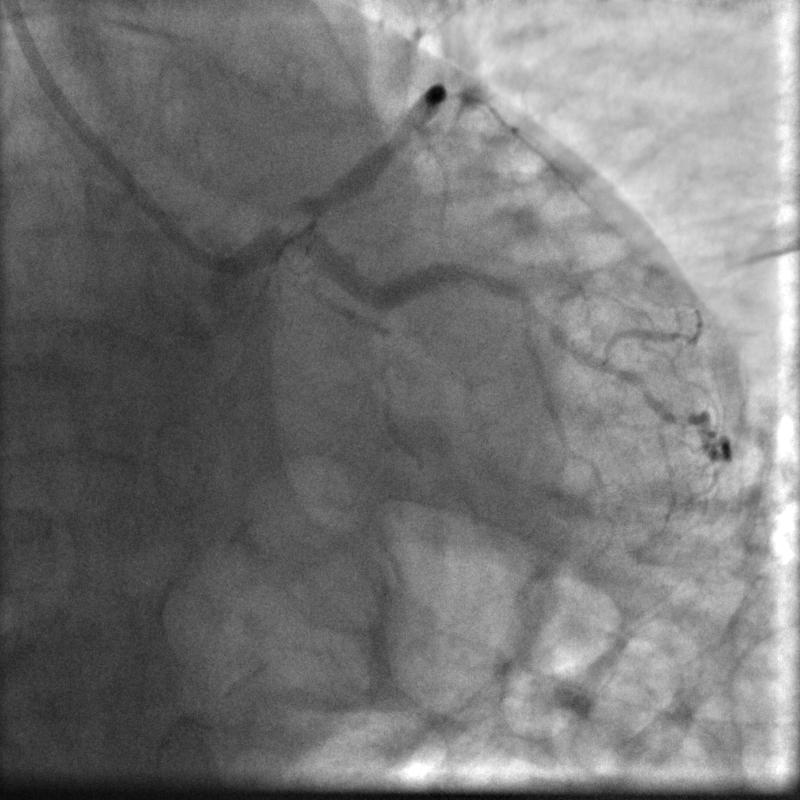Stenosis: (262, 201, 327, 242)
